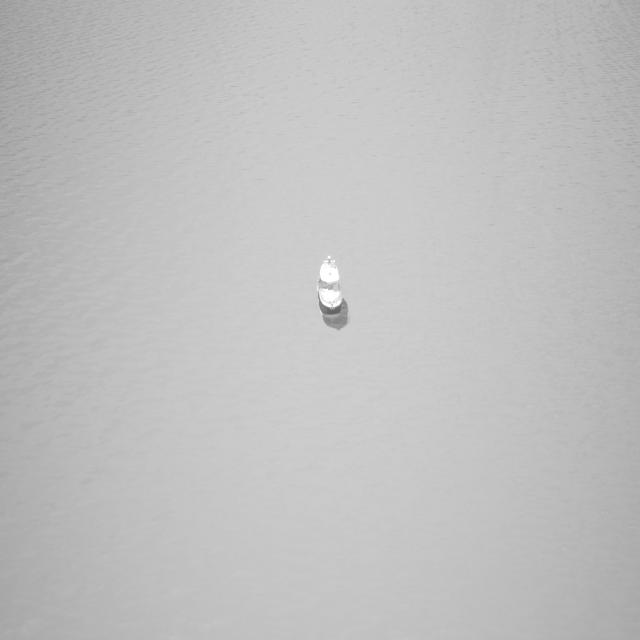ship: (314, 248, 346, 326)
